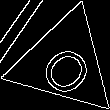O_NE: (31, 30, 97, 96)
